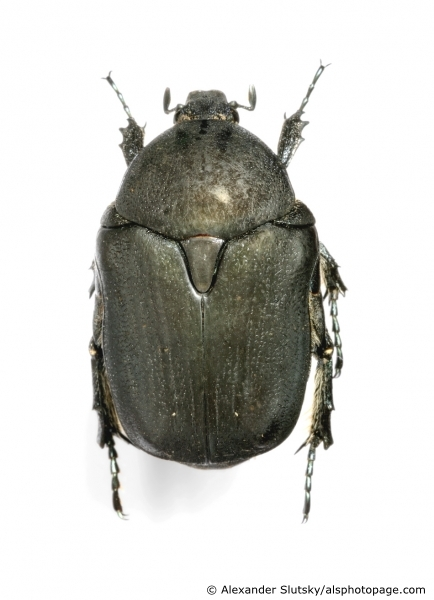Protaetia_afflicta: (63, 52, 359, 528)
